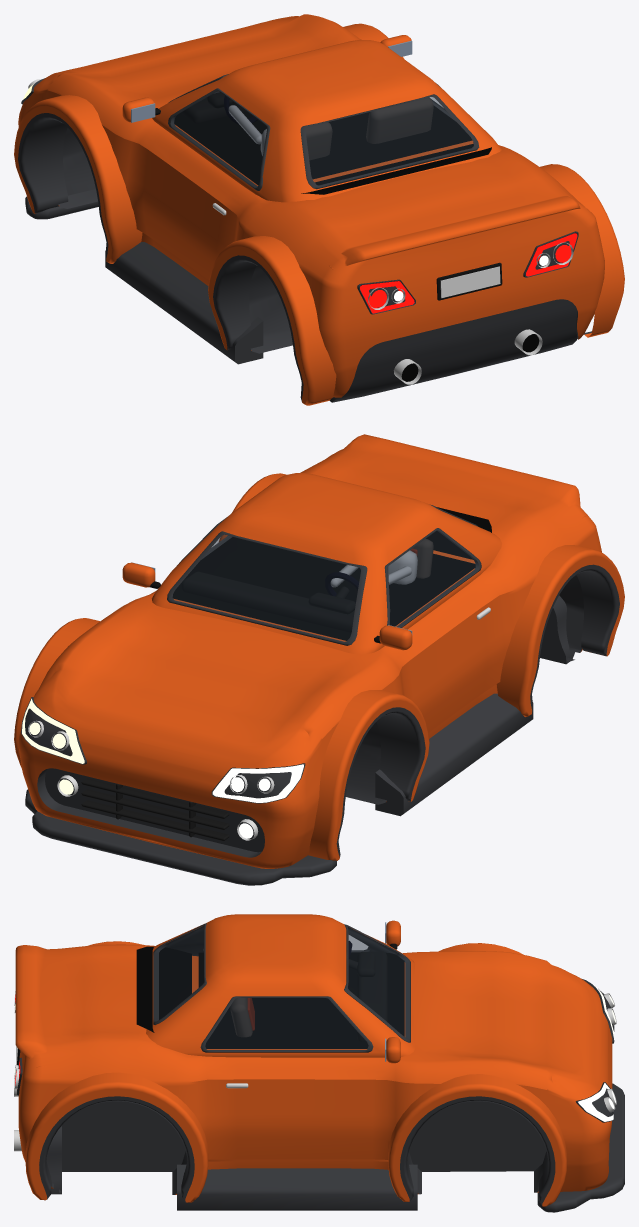
The model's file is car_coupe.glb.
The picture shows the model from 3 angles, top to bottom: view 1: azimuth 30°, elevation 25°; view 2: azimuth 150°, elevation 25°; view 3: azimuth 270°, elevation 25°; orthographic projection. The views are drawn at different scales.
Visible parts, largest first — view 1: body_q, detail_q; view 2: body_q, detail_q; view 3: body_q, detail_q.
Part boxes in pixels (x1=…): body_q: x1=14, y1=14, x2=624, y2=405; detail_q: x1=28, y1=40, x2=573, y2=384; body_q: x1=14, y1=434, x2=624, y2=885; detail_q: x1=28, y1=507, x2=491, y2=841; body_q: x1=15, y1=914, x2=624, y2=1212; detail_q: x1=14, y1=922, x2=616, y2=1151.
Bounding box in the file's own units: 2.31 × 1.48 × 4.07.
